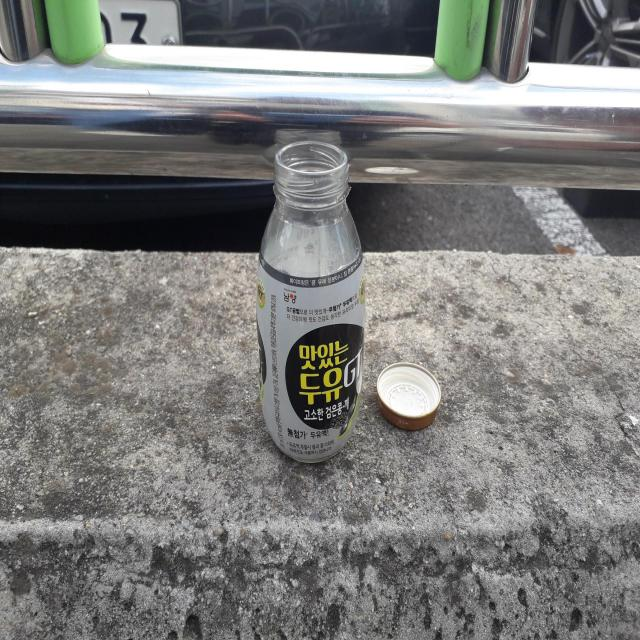glass: (256, 140, 366, 464)
